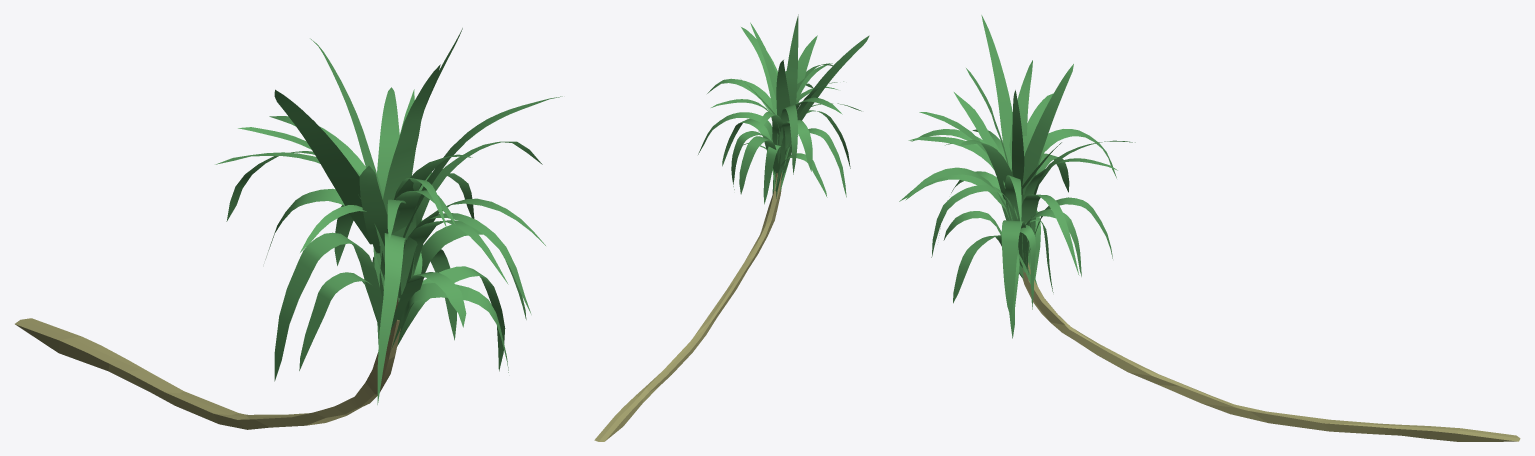
Rendered from plant_yucca_B.fbx.
3 renders of one model, left to right at view 1: azimuth 30°, elevation 25°; view 2: azimuth 150°, elevation 25°; view 3: azimuth 270°, elevation 25°, orthographic. The views are drawn at different scales.
Parts seen in each view (by area): view 1: trunk_plant_yucca_B, plant_yucca_B_leaf_42, plant_yucca_B_leaf_13, plant_yucca_B_leaf_08, plant_yucca_B_leaf_43, plant_yucca_B_leaf_12, plant_yucca_B_leaf_44, plant_yucca_B_leaf_45, plant_yucca_B_leaf_21, plant_yucca_B_leaf_34, plant_yucca_B_leaf_18, plant_yucca_B_leaf_35 (+14 smaller); view 2: trunk_plant_yucca_B, plant_yucca_B_leaf_08, plant_yucca_B_leaf_13, plant_yucca_B_leaf_31, plant_yucca_B_leaf_32, plant_yucca_B_leaf_39, plant_yucca_B_leaf_24, plant_yucca_B_leaf_10, plant_yucca_B_leaf_17, plant_yucca_B_leaf_42, plant_yucca_B_leaf_38, plant_yucca_B_leaf_25 (+6 smaller); view 3: trunk_plant_yucca_B, plant_yucca_B_leaf_30, plant_yucca_B_leaf_10, plant_yucca_B_leaf_13, plant_yucca_B_leaf_29, plant_yucca_B_leaf_11, plant_yucca_B_leaf_27, plant_yucca_B_leaf_17, plant_yucca_B_leaf_35, plant_yucca_B_leaf_16, plant_yucca_B_leaf_18, plant_yucca_B_leaf_25 (+1 smaller).
Part boxes in pixels (x1,y1,x2,y2): trunk_plant_yucca_B: (15,297,400,429); plant_yucca_B_leaf_42: (274,232,391,381); plant_yucca_B_leaf_13: (274,89,372,244); plant_yucca_B_leaf_08: (379,64,440,245); plant_yucca_B_leaf_43: (377,233,406,404); plant_yucca_B_leaf_12: (359,165,388,253); plant_yucca_B_leaf_44: (299,272,380,370); plant_yucca_B_leaf_45: (397,266,505,371); plant_yucca_B_leaf_21: (377,87,399,196); plant_yucca_B_leaf_34: (390,272,466,330); plant_yucca_B_leaf_18: (398,198,545,301); plant_yucca_B_leaf_35: (391,283,508,372); trunk_plant_yucca_B: (594,172,781,441); plant_yucca_B_leaf_08: (785,14,798,105); plant_yucca_B_leaf_13: (797,35,869,120); plant_yucca_B_leaf_31: (739,136,779,194); plant_yucca_B_leaf_32: (779,120,812,171); plant_yucca_B_leaf_39: (775,104,797,177); plant_yucca_B_leaf_24: (758,111,785,169); plant_yucca_B_leaf_10: (776,60,790,117); plant_yucca_B_leaf_17: (741,27,777,114); plant_yucca_B_leaf_42: (780,128,846,197); plant_yucca_B_leaf_38: (763,145,786,204); plant_yucca_B_leaf_25: (707,78,773,113); trunk_plant_yucca_B: (1022,262,1520,441); plant_yucca_B_leaf_30: (1001,220,1028,316); plant_yucca_B_leaf_10: (1022,64,1073,193); plant_yucca_B_leaf_13: (981,15,1012,170); plant_yucca_B_leaf_29: (1018,194,1079,275); plant_yucca_B_leaf_11: (1012,90,1024,186); plant_yucca_B_leaf_27: (931,185,1028,274); plant_yucca_B_leaf_17: (960,140,1013,199); plant_yucca_B_leaf_35: (953,235,1022,303); plant_yucca_B_leaf_16: (1009,60,1032,161); plant_yucca_B_leaf_18: (905,167,1011,220); plant_yucca_B_leaf_25: (1005,175,1024,225).
Size of the model in its own units: 97.35 by 172 by 257.
